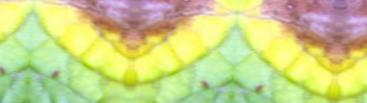Tomato Early blight leaf: (124, 0, 248, 103)
